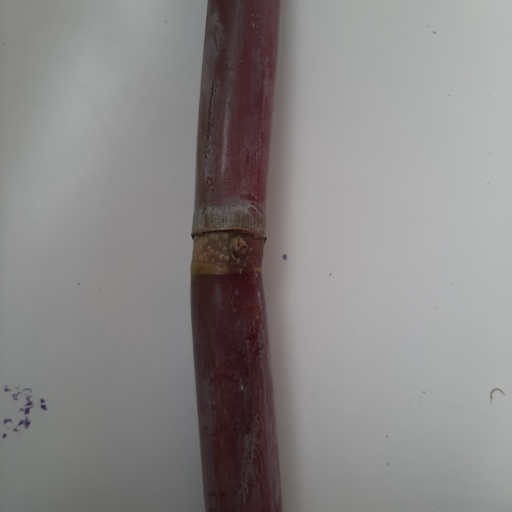Bud: (227, 234, 249, 265)
